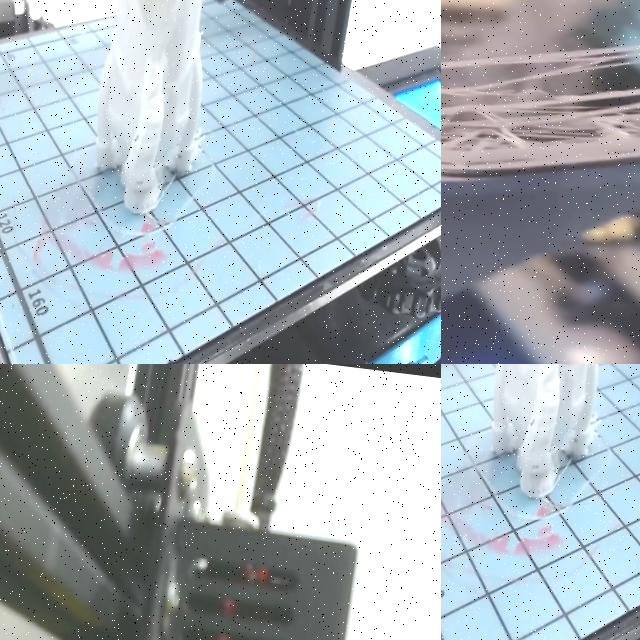spaghetti: (441, 0, 640, 227)
